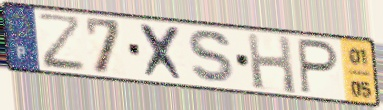7: (85, 15, 125, 77)
H: (244, 31, 299, 96)
P: (296, 36, 341, 97)
S: (186, 28, 240, 87)
X: (137, 21, 189, 84)
Z: (34, 12, 89, 74)
